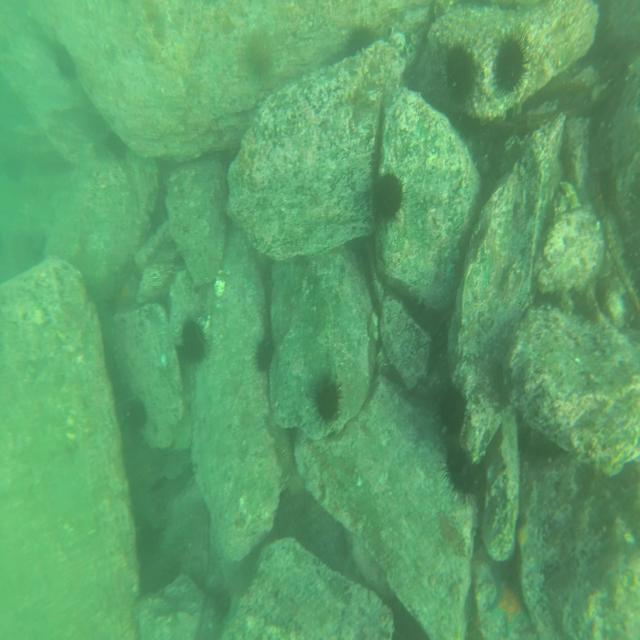echinus: (490, 28, 532, 101), (440, 41, 480, 108), (439, 440, 480, 504), (309, 372, 346, 428), (437, 379, 469, 443), (374, 168, 408, 228), (245, 34, 276, 86), (179, 315, 209, 363), (345, 24, 374, 61), (53, 40, 77, 84), (253, 334, 275, 376), (126, 394, 148, 431), (104, 124, 125, 162)
starfish: (484, 552, 532, 640), (114, 269, 139, 314)
